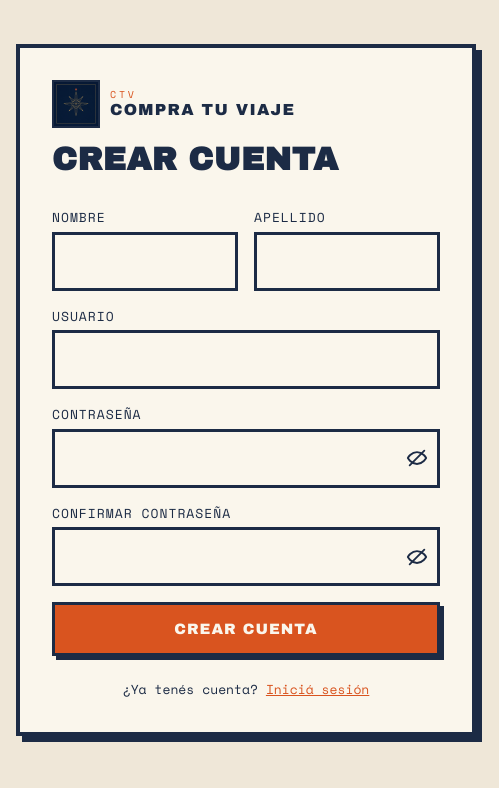
Test: Register page › 09 - shows the backend message when the username is already taken
Type "Juan" into the field labelled "Nombre".
click(145, 261); type("Juan")  # box [52,232,238,291]
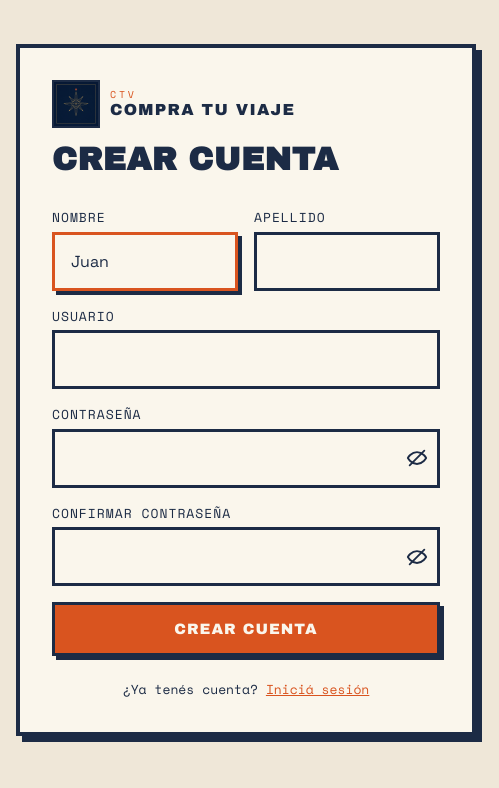
Type "Perez" into the field labelled "Apellido".
click(347, 261); type("Perez")  # box [254,232,440,291]
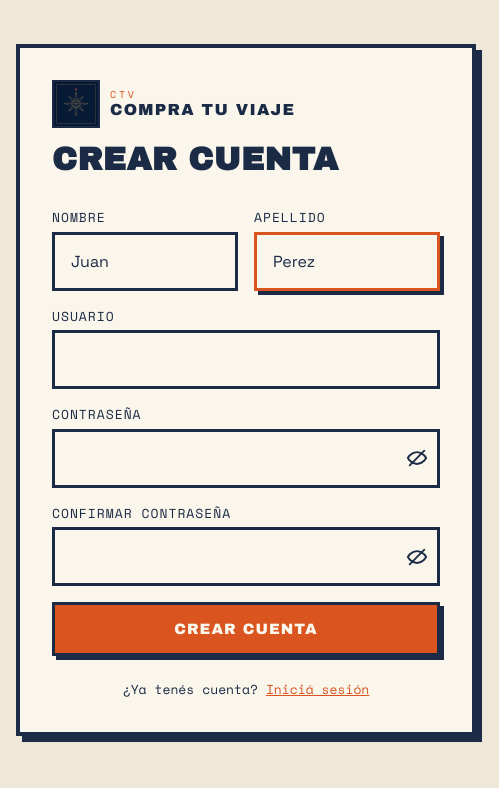
Type "juanperez" into the field labelled "Usuario".
click(246, 360); type("juanperez")  # box [52,330,440,389]
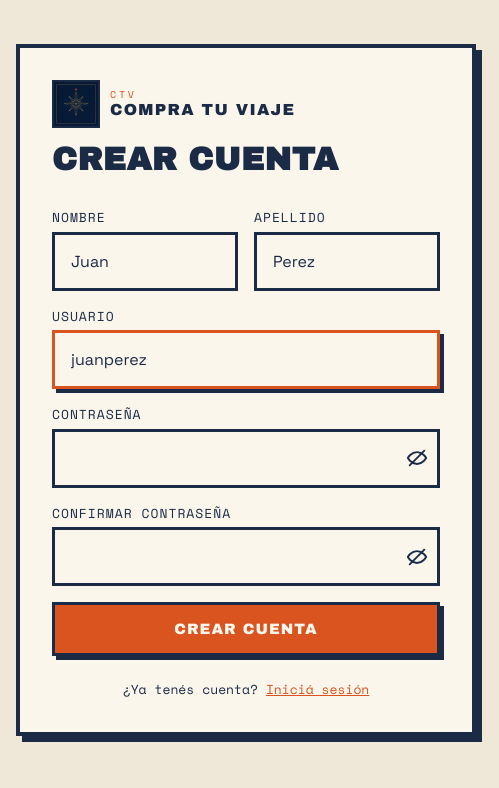
Type "secreto123" into the password field labelled "Contraseña".
click(246, 458); type("secreto123")  # box [52,429,440,488]
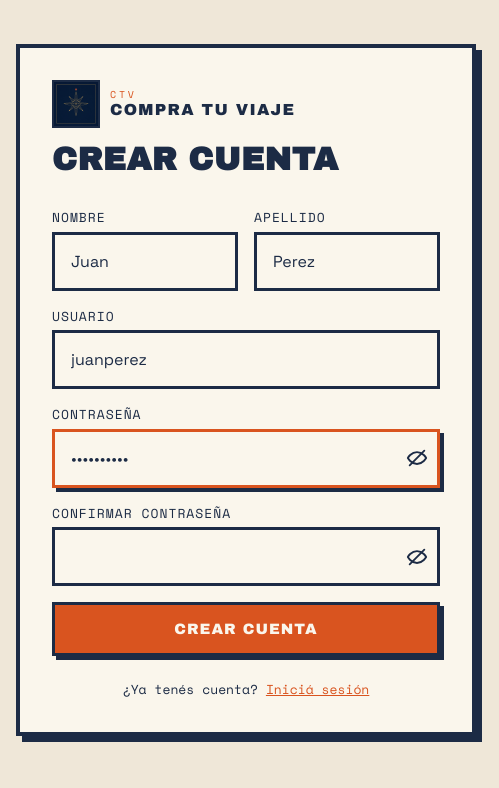
Type "secreto123" into the password field labelled "Confirmar contraseña".
click(246, 557); type("secreto123")  # box [52,527,440,586]
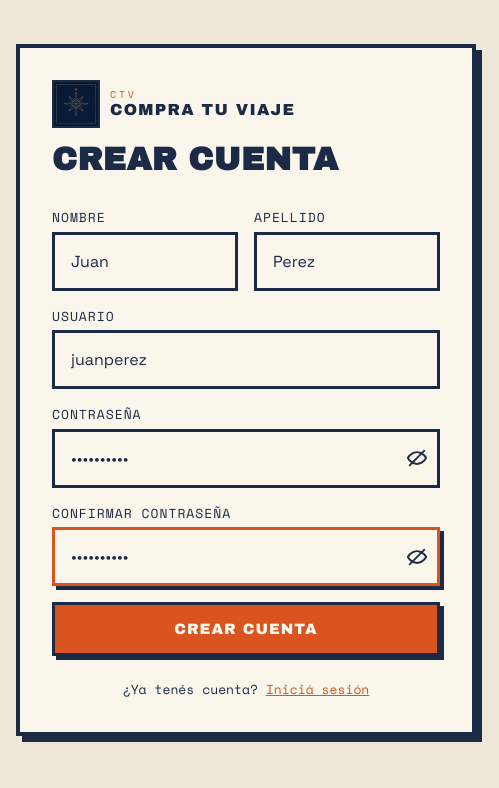
Click the button "Crear cuenta".
click(246, 629)  # box [52,602,440,656]
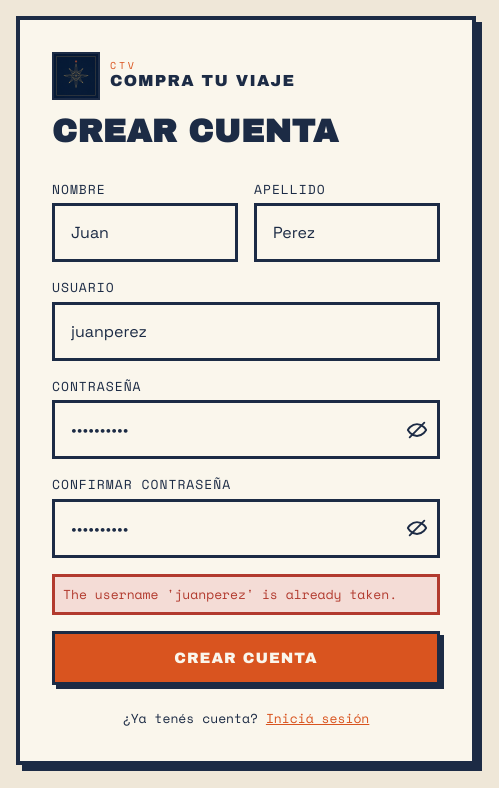
expect the text "The username 'juanperez' is already taken." is shown: met, box [52,574,440,615]
